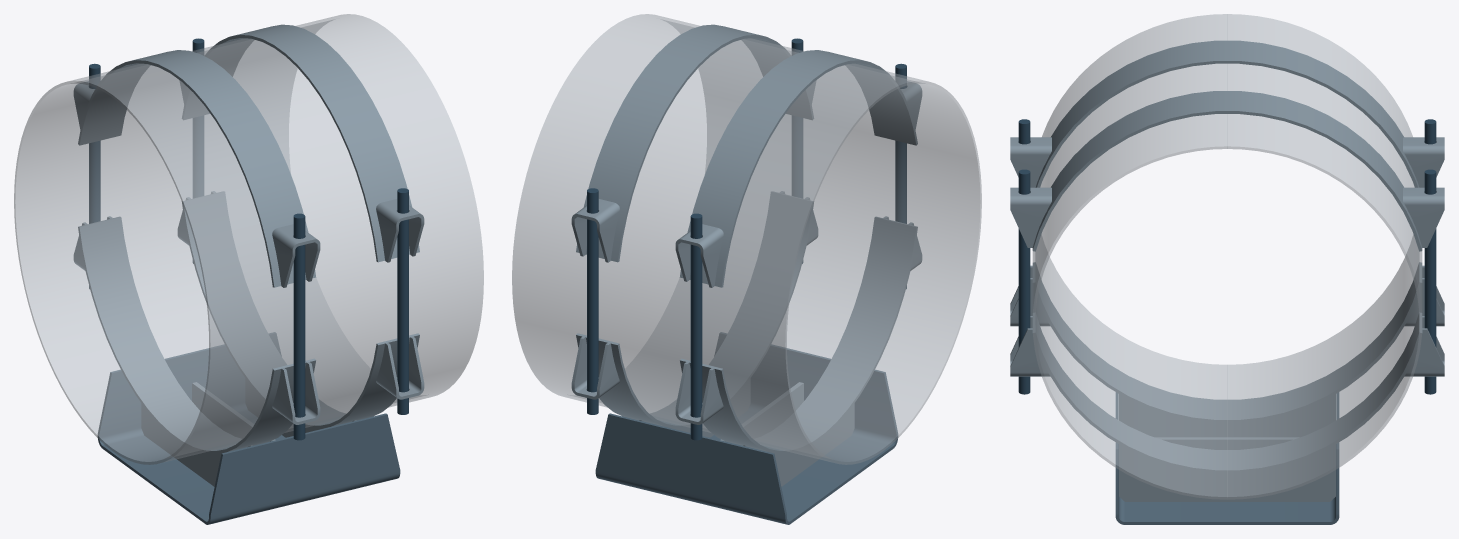
The model's file is TS-627.00.000-076-opora-dn1220-H150-L680.glb.
The picture shows the model from 3 angles, left to right: view 1: azimuth 30°, elevation 25°; view 2: azimuth 150°, elevation 25°; view 3: azimuth 270°, elevation 25°; orthographic projection.
Parts seen in each view (by area): view 1: truba, skoba_0, podushka_5, bugel0_podushka_0, bugel1_podushka_0, podushka_6, shpilka_0_-1, shpilka_1_-1, rebro4_1, bugel0_ushko_2, bugel1_ushko_2, ushko_8 (+5 smaller); view 2: truba, skoba_0, podushka_5, bugel0_podushka_0, bugel1_podushka_0, podushka_6, shpilka_0_1, shpilka_1_1, rebro4_1, bugel0_ushko_1, bugel1_ushko_1, ushko_7 (+5 smaller); view 3: truba, podushka_6, podushka_5, bugel1_podushka_0, bugel0_podushka_0, rebro4_2, skoba_0, rebro4_1, shpilka_1_1, shpilka_1_-1, bugel1_ushko_1, bugel1_ushko_2 (+7 smaller).
Boxes of the visible parts, box(x1,y1,x2,y2) form: truba: box(14, 14, 483, 464); skoba_0: box(97, 332, 400, 524); podushka_5: box(78, 216, 315, 454); bugel0_podushka_0: box(78, 50, 316, 287); bugel1_podushka_0: box(182, 24, 419, 262); podushka_6: box(182, 191, 419, 428); shpilka_0_-1: box(293, 213, 305, 440); shpilka_1_-1: box(397, 188, 408, 414); rebro4_1: box(141, 403, 252, 486); bugel0_ushko_2: box(272, 224, 320, 287); bugel1_ushko_2: box(376, 199, 424, 262); ushko_8: box(272, 362, 320, 424); truba: box(512, 14, 981, 464); skoba_0: box(595, 332, 898, 524); podushka_5: box(680, 216, 917, 454); bugel0_podushka_0: box(679, 50, 917, 287); bugel1_podushka_0: box(576, 24, 813, 262); podushka_6: box(576, 191, 813, 428); shpilka_0_1: box(690, 213, 702, 440); shpilka_1_1: box(587, 188, 598, 414); rebro4_1: box(743, 403, 854, 486); bugel0_ushko_1: box(675, 224, 723, 287); bugel1_ushko_1: box(571, 199, 619, 262); ushko_7: box(675, 362, 723, 424); truba: box(1032, 14, 1422, 499); podushka_6: box(1032, 312, 1422, 473); podushka_5: box(1032, 262, 1422, 422); bugel1_podushka_0: box(1032, 91, 1422, 251); bugel0_podushka_0: box(1035, 40, 1419, 187); rebro4_2: box(1119, 444, 1335, 501); skoba_0: box(1115, 392, 1339, 524); rebro4_1: box(1119, 394, 1335, 437); shpilka_1_1: box(1424, 169, 1436, 394); shpilka_1_-1: box(1018, 169, 1030, 394); bugel1_ushko_1: box(1403, 187, 1444, 247); bugel1_ushko_2: box(1010, 187, 1051, 247).
Size of the model in its own units: 980 by 1392 by 1358.
